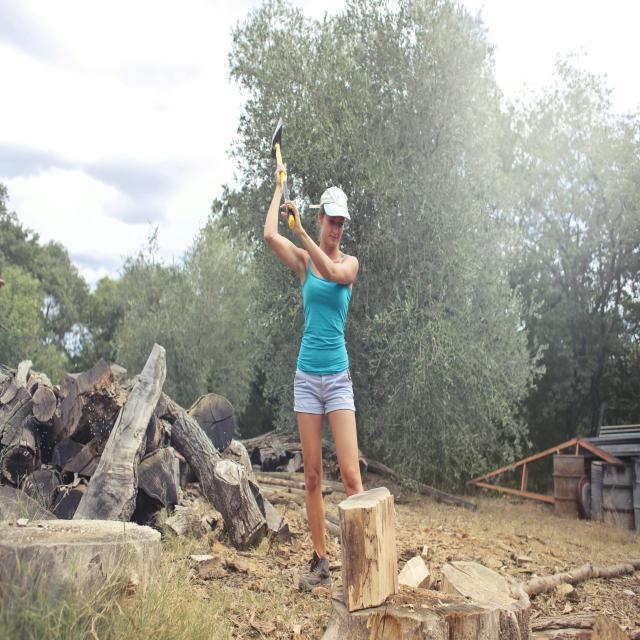Axe: (271, 119, 284, 165), (281, 174, 286, 183)
